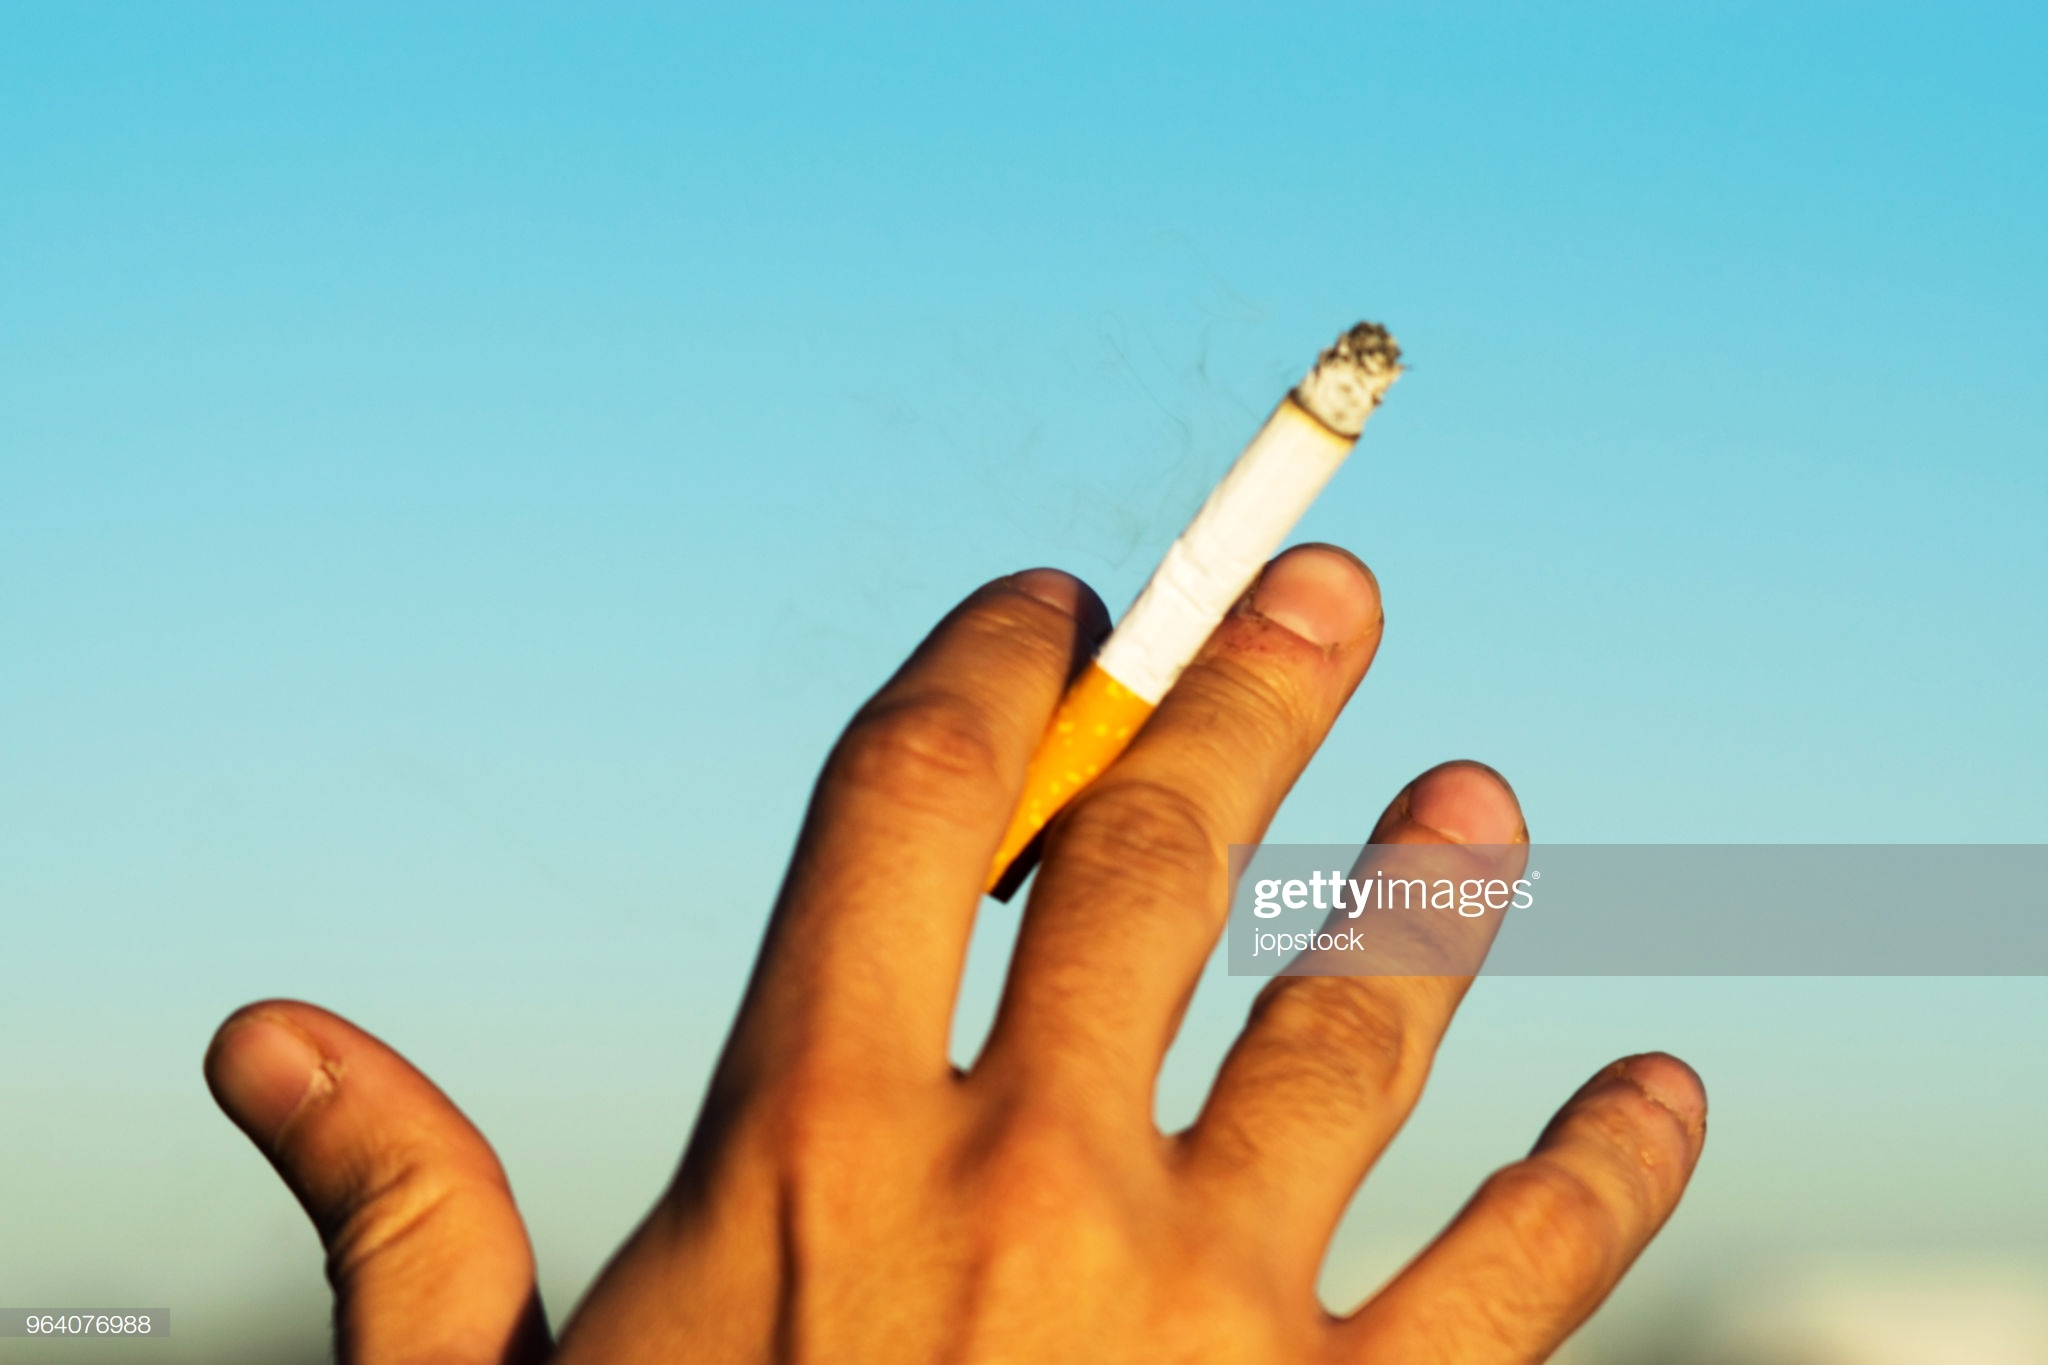sigaretta: (981, 277, 1396, 887)
